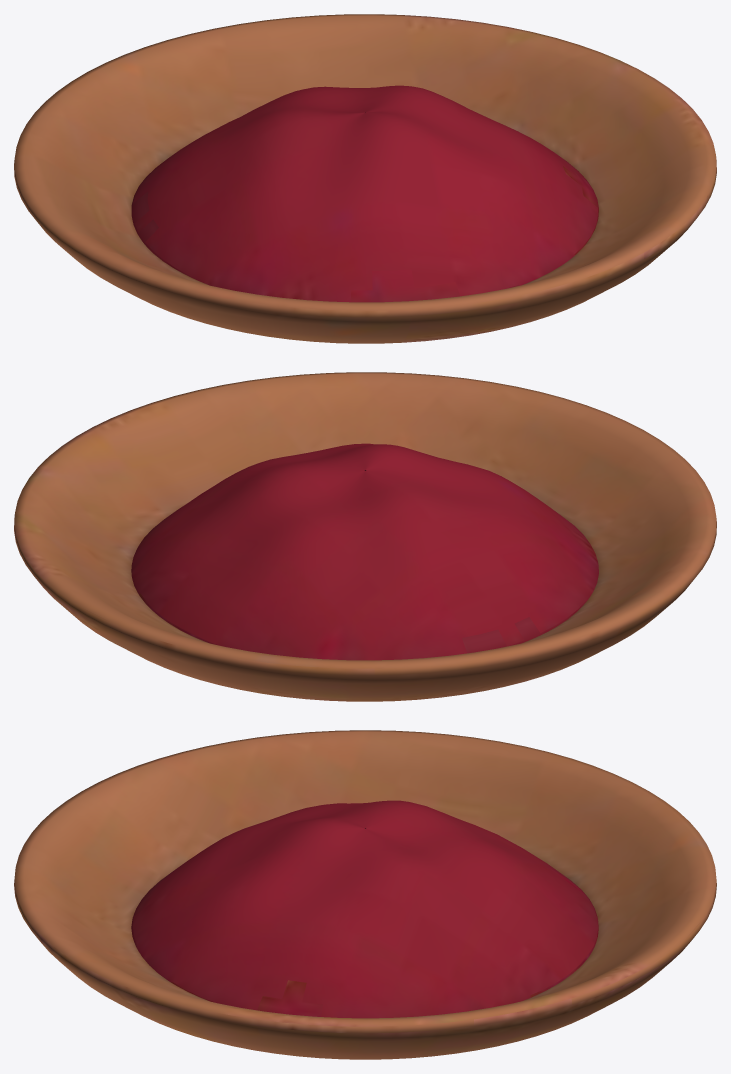
The model's file is madder_lake.glb.
3 views of the same model, one above another, from view 1: azimuth 30°, elevation 25°; view 2: azimuth 150°, elevation 25°; view 3: azimuth 270°, elevation 25° (orthographic).
Parts seen in each view (by area): view 1: madder_lake; view 2: madder_lake; view 3: madder_lake.
Part boxes in pixels (x1,y1,x2,y2): madder_lake: (14,14,716,343); madder_lake: (14,372,716,701); madder_lake: (14,730,716,1059).
Size of the model in its own units: 0.0901 by 0.0216 by 0.0901.
1 material, 1 textured.
